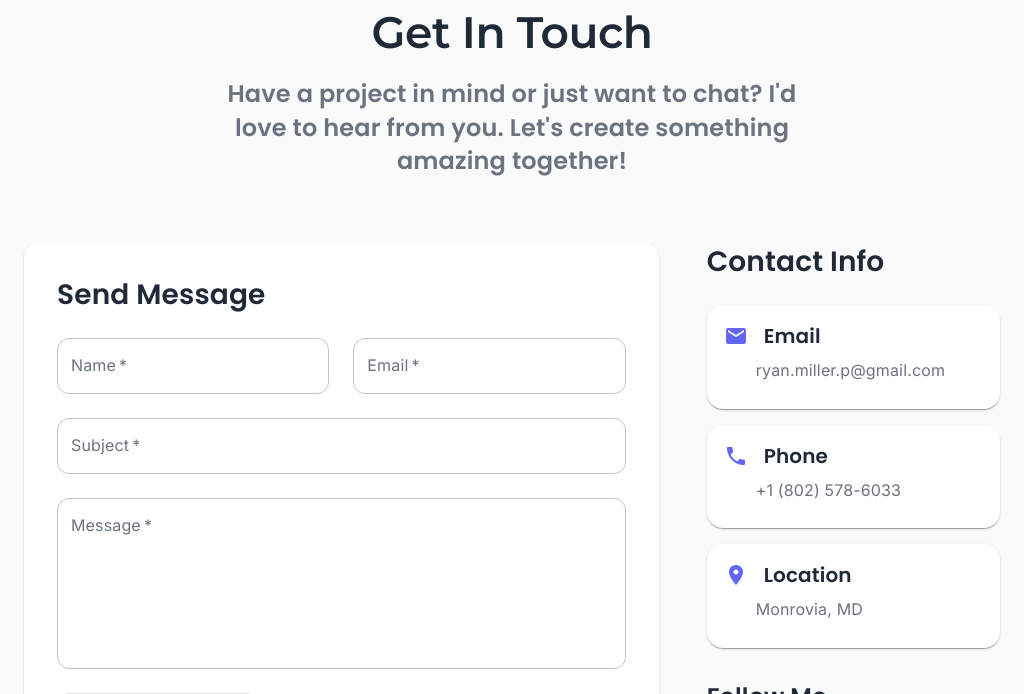
Scenario: Contact Component › form submission shows success message
This screenshot has width=1024, height=694.
Fill out the form
Type "John Doe" into the field labelled "Name *" at (193, 366), box [57,338,329,394]
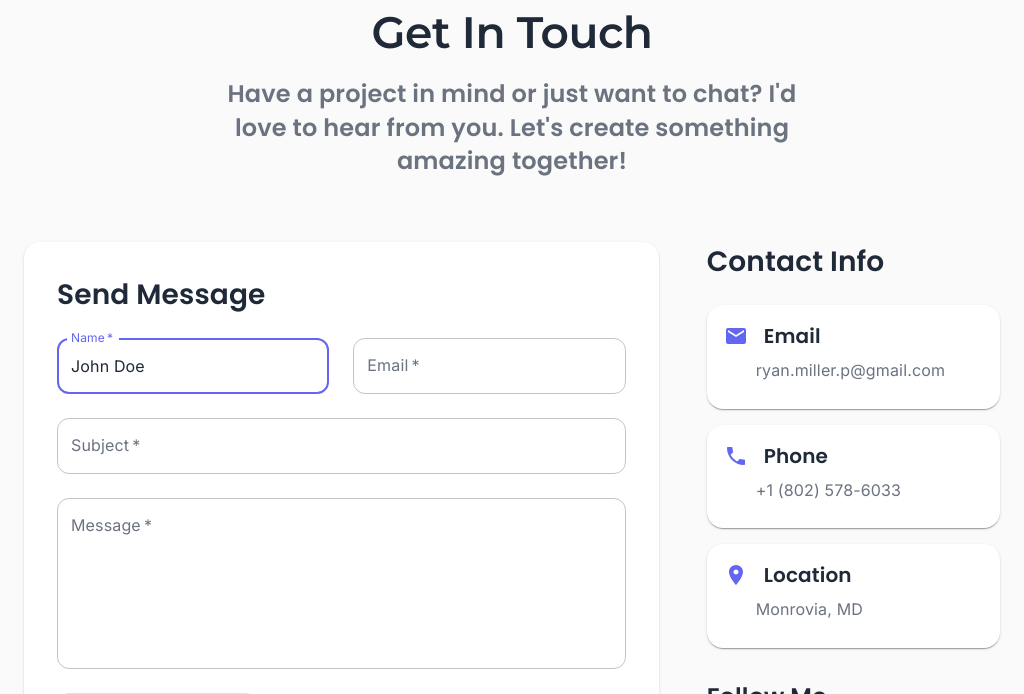
Type "john@example.com" into the field labelled "Email *" at (489, 366), box [353,338,626,394]
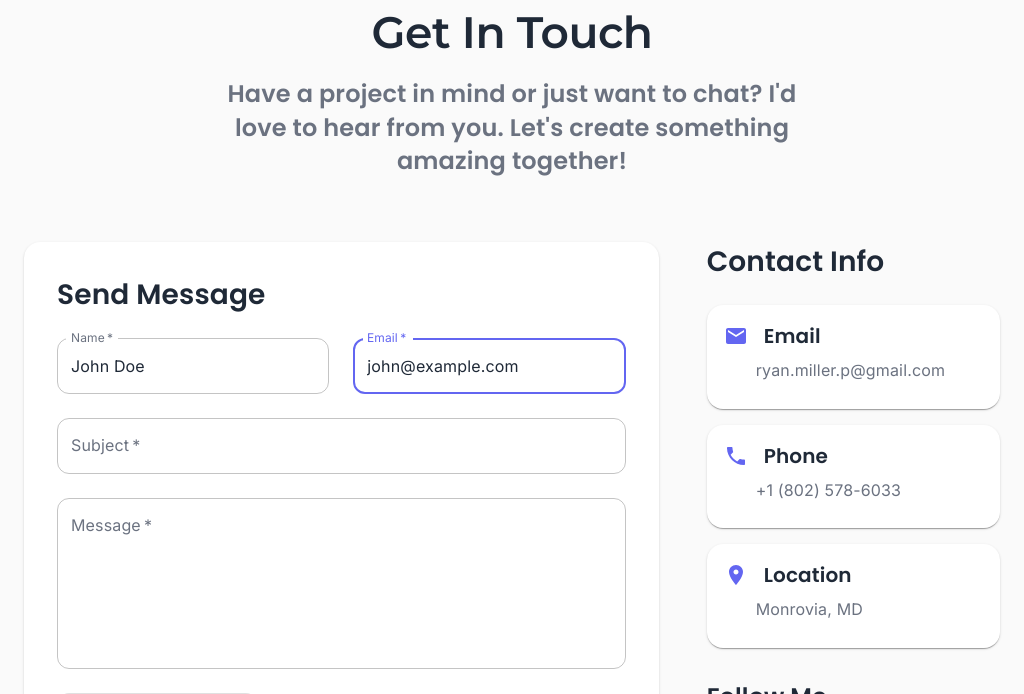
Type "Test Subject" into the field labelled "Subject *" at (341, 446), box [57,418,626,474]
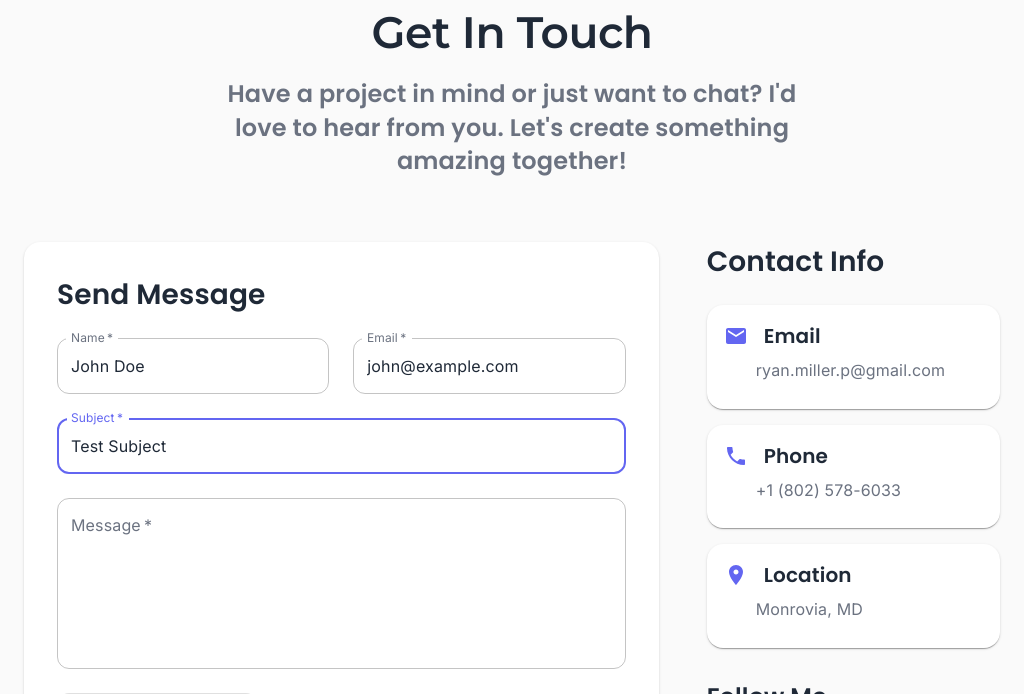
Type "Test message content" into the text box labelled "Message *" at (341, 584), box [71,515,612,653]
(page scrolled)
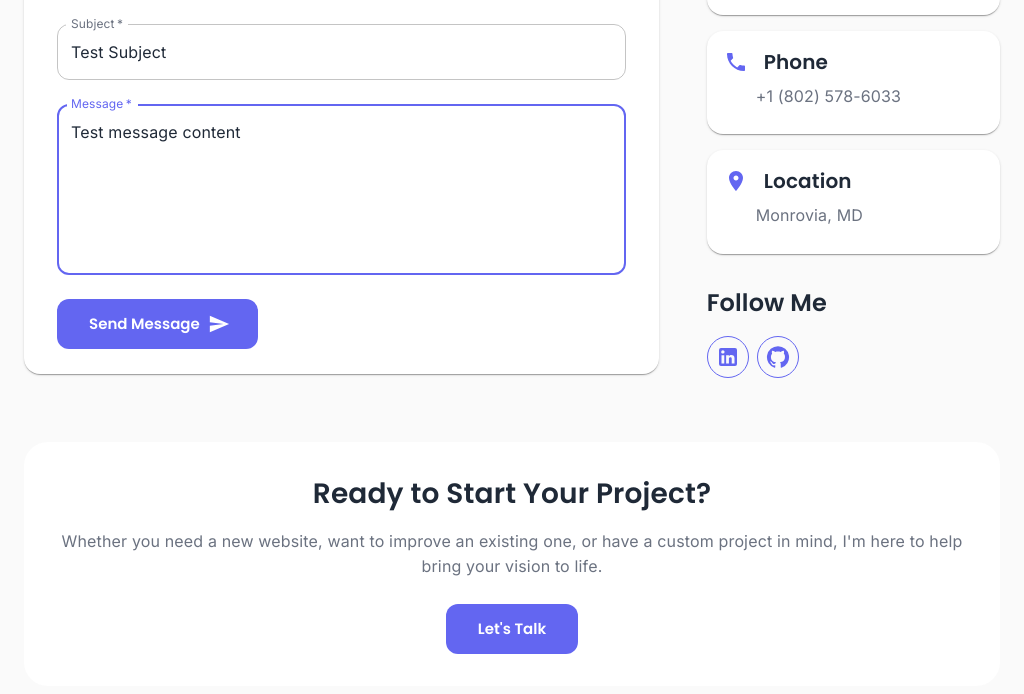
Click the button "Send Message" at (157, 324), box [57,299,258,350]
(page scrolled)
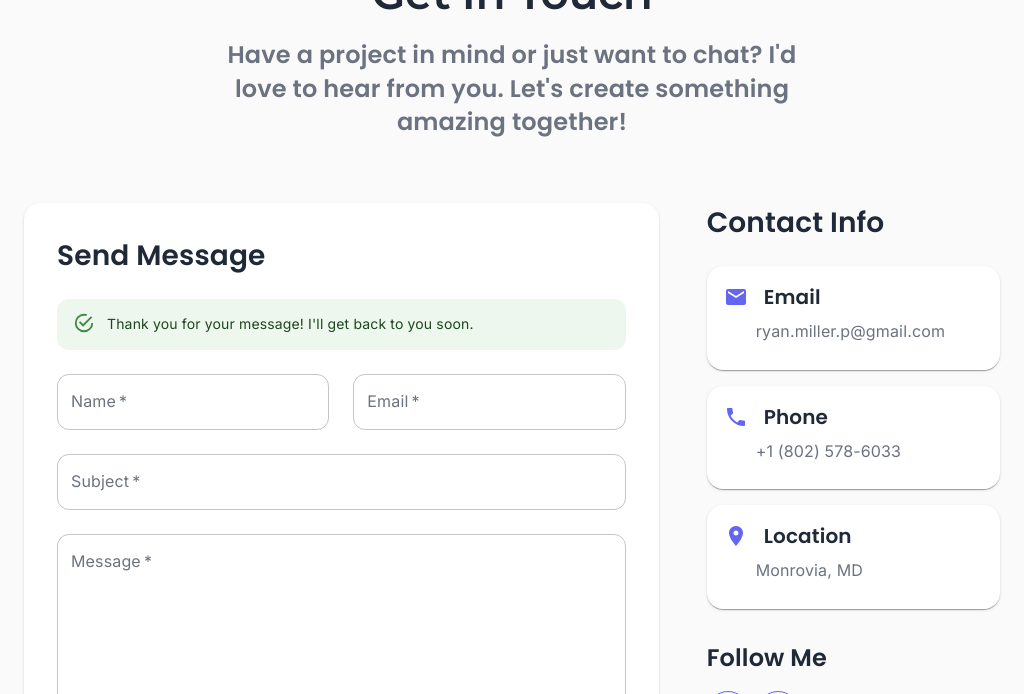
Expected: the text "Thank you for your message! I'll get back to you soon." is shown, [107,315,474,332]
